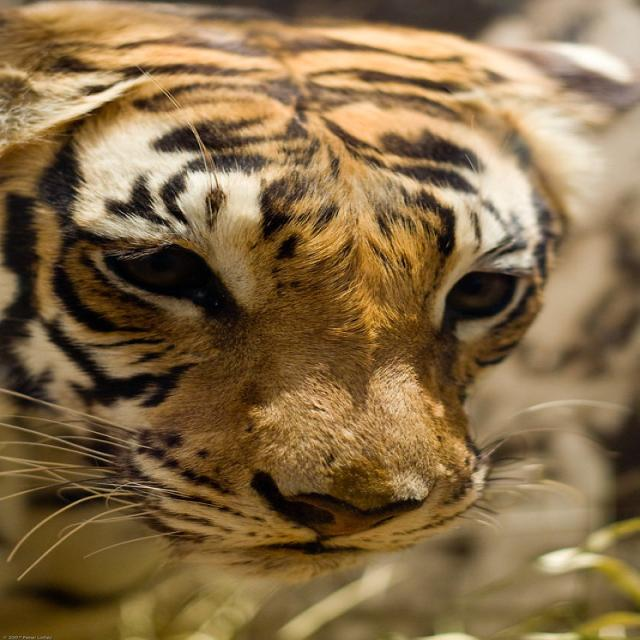Tiger: (2, 2, 624, 589)
